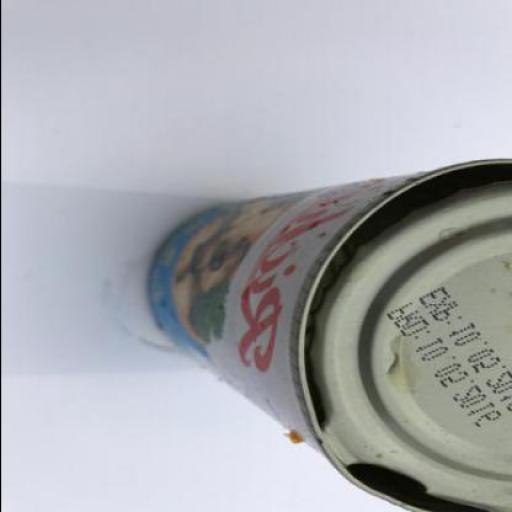metal: (145, 159, 511, 512)
